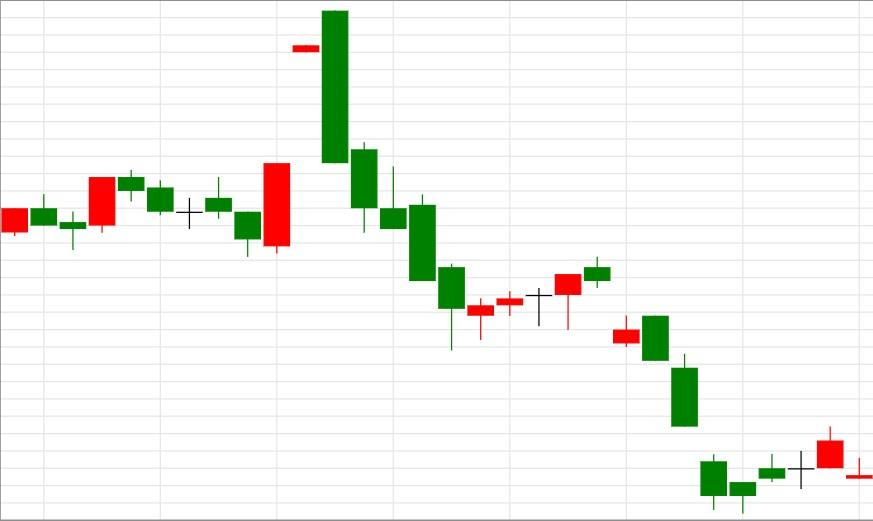bearish_engulfing_fall: (234, 10, 349, 257)
